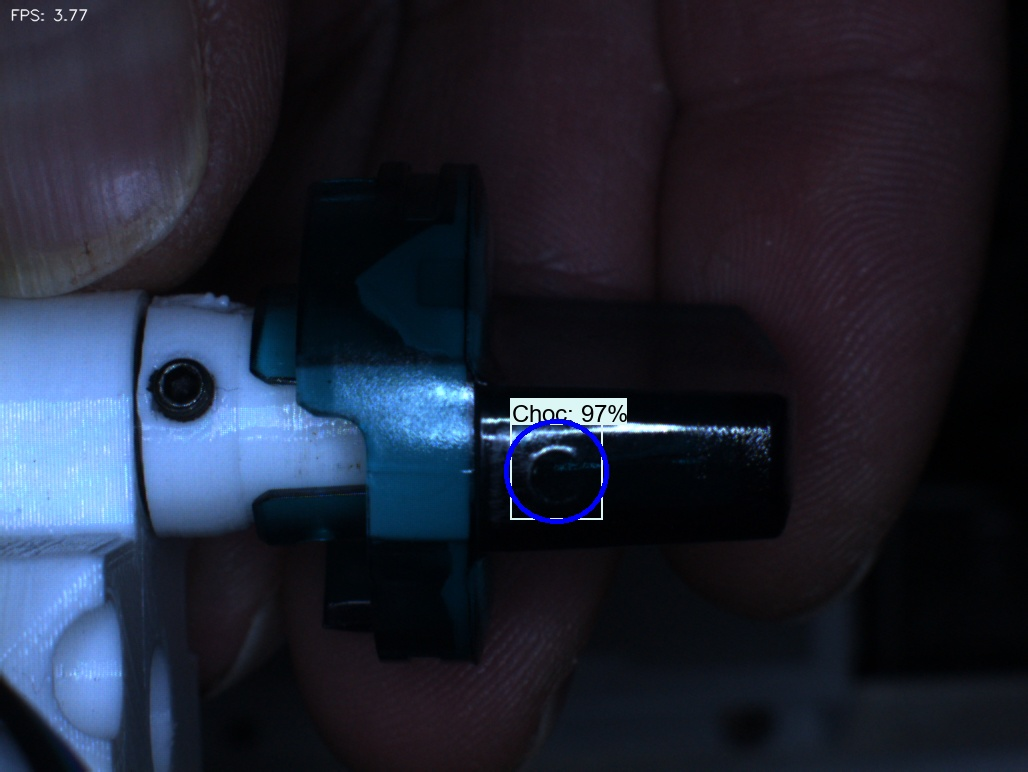DentOk: (330, 232, 399, 329)
